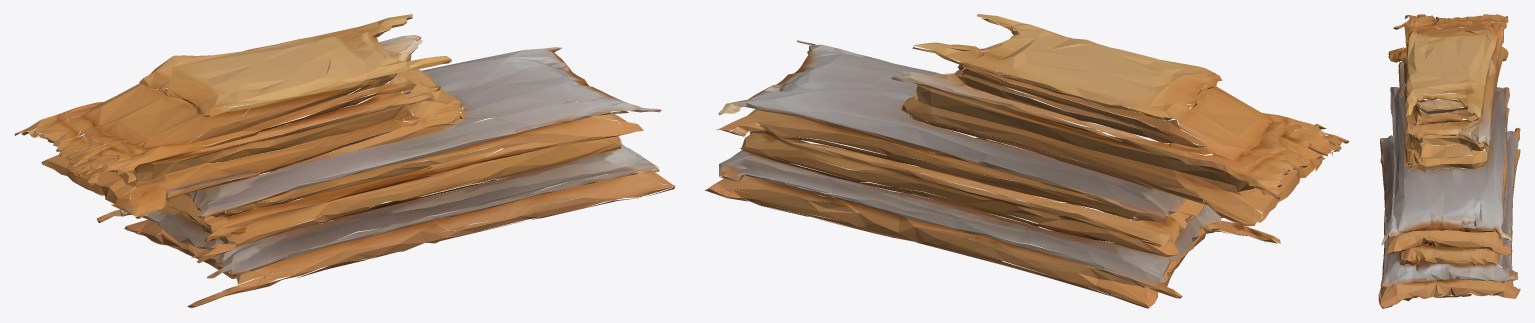
File: sandbag-wall.glb
The picture shows the model from 3 angles, left to right: view 1: azimuth 30°, elevation 25°; view 2: azimuth 150°, elevation 25°; view 3: azimuth 270°, elevation 25°; orthographic projection. The views are drawn at different scales.
Visible parts, largest first — view 1: tmp2xnvnc8g.ply; view 2: tmp2xnvnc8g.ply; view 3: tmp2xnvnc8g.ply.
Boxes of the visible parts, left/top/right/bottom form: tmp2xnvnc8g.ply: left=14, top=14, right=675, bottom=308; tmp2xnvnc8g.ply: left=705, top=14, right=1349, bottom=308; tmp2xnvnc8g.ply: left=1378, top=14, right=1520, bottom=308.
Size of the model in its own units: 4 by 1.2 by 1.2.
1 material, 1 textured.
